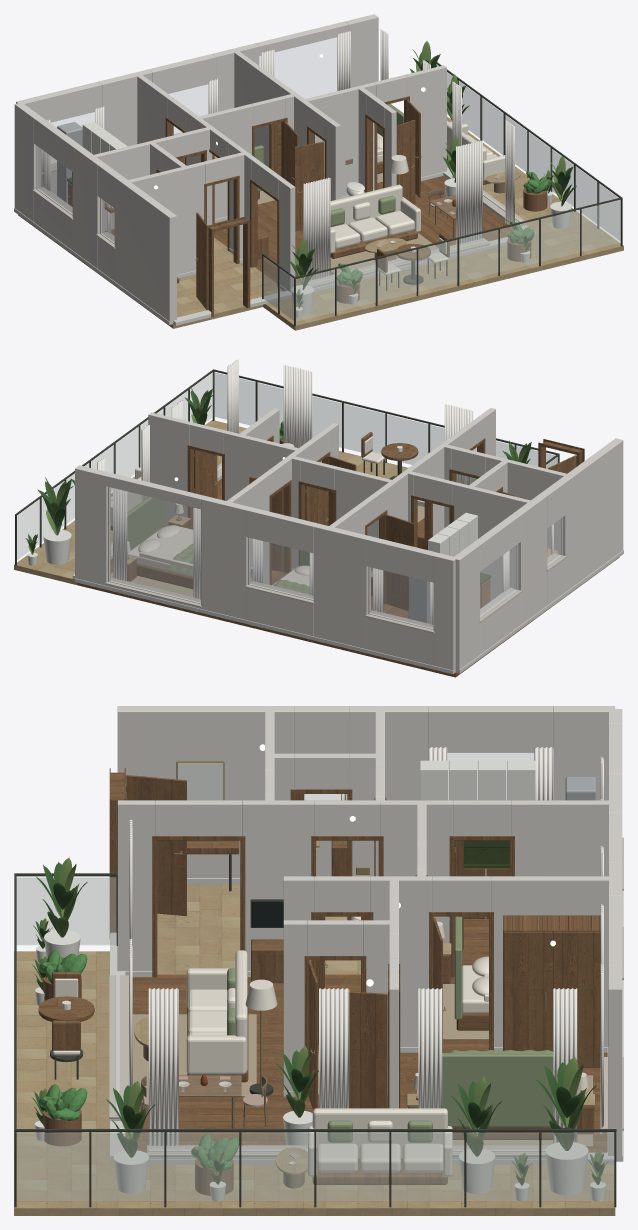
File: assets-premium.glb
3 renders of one model, top to bottom at view 1: azimuth 30°, elevation 25°; view 2: azimuth 150°, elevation 25°; view 3: azimuth 270°, elevation 25°, orthographic. The views are drawn at different scales.
Visible parts, largest first — view 1: terraza_jardin:piso, fachada_oeste:0, division_oeste:0, division_bano_suite:final, entrada:piso, fachada_oeste:3.3499999999999996, fachada_norte:ventanal_suite_norte:vidrio, division_bano_suite:0, sala_comedor:piso, ventanal_social_sur:cortina:1, fachada_oeste:final, ventanal_social_sur:cortina:-1 (+79 smaller); view 2: fachada_norte:ventanal_suite_norte:vidrio, fachada_oeste:0, fachada_norte:2.2, fachada_norte:5.25, fachada_norte:final, fachada_oeste:3.3499999999999996, division_bano_suite:final, fachada_norte:ventana_cocina_norte:vidrio, fachada_norte:ventana_dormitorio:vidrio, division_servicios:0, fachada_oeste:final, division_bano_suite:0 (+72 smaller); view 3: terraza_jardin:piso, fachada_oeste:0, sala_comedor:piso, division_social:final, division_social:1.8, XVA3_Cama_king_head.001, division_suite:final, entrada:piso, TL_C2_Armario_suite_frente_0, division_social:0, fachada_oeste:ventana_cocina:dintel, division_suite:1.25 (+95 smaller).
Boxes of the visible parts, <box> form: terraza_jardin:piso: <box>263,116,623,330</box>; fachada_oeste:0: <box>114,176,176,324</box>; division_oeste:0: <box>128,162,205,274</box>; division_bano_suite:final: <box>405,65,446,177</box>; entrada:piso: <box>126,262,283,328</box>; fachada_oeste:3.3499999999999996: <box>72,145,104,268</box>; fachada_norte:ventanal_suite_norte:vidrio: <box>259,37,336,98</box>; division_bano_suite:0: <box>303,82,375,196</box>; sala_comedor:piso: <box>255,176,513,285</box>; ventanal_social_sur:cortina:1: <box>456,140,482,244</box>; fachada_oeste:final: <box>14,102,41,221</box>; ventanal_social_sur:cortina:-1: <box>303,177,330,280</box>; fachada_norte:ventanal_suite_norte:vidrio: <box>110,487,200,602</box>; fachada_oeste:0: <box>557,438,623,591</box>; fachada_norte:2.2: <box>313,523,370,649</box>; fachada_norte:5.25: <box>201,496,250,619</box>; fachada_norte:final: <box>75,465,110,585</box>; fachada_oeste:3.3499999999999996: <box>513,494,547,624</box>; division_bano_suite:final: <box>148,412,192,526</box>; fachada_norte:ventana_cocina_norte:vidrio: <box>370,567,433,628</box>; fachada_norte:ventana_dormitorio:vidrio: <box>250,538,313,598</box>; division_servicios:0: <box>452,482,530,600</box>; fachada_oeste:final: <box>453,543,479,672</box>; division_bano_suite:0: <box>223,430,298,556</box>; terraza_jardin:piso: <box>14,951,615,1215</box>; fachada_oeste:0: <box>117,706,293,878</box>; sala_comedor:piso: <box>125,974,387,1152</box>; division_social:final: <box>511,800,614,876</box>; division_social:1.8: <box>242,800,314,970</box>; XVA3_Cama_king_head.001: <box>442,1053,553,1127</box>; division_suite:final: <box>491,876,614,1046</box>; entrada:piso: <box>157,884,240,974</box>; TL_C2_Armario_suite_frente_0: <box>504,931,552,1051</box>; division_social:0: <box>117,800,155,970</box>; fachada_oeste:ventana_cocina:dintel: <box>428,706,552,752</box>; division_suite:1.25: <box>370,876,432,1046</box>.
Size of what is drawn, in the model's own units: 11.32 by 2.87 by 8.82.
140 materials, 49 textured.
